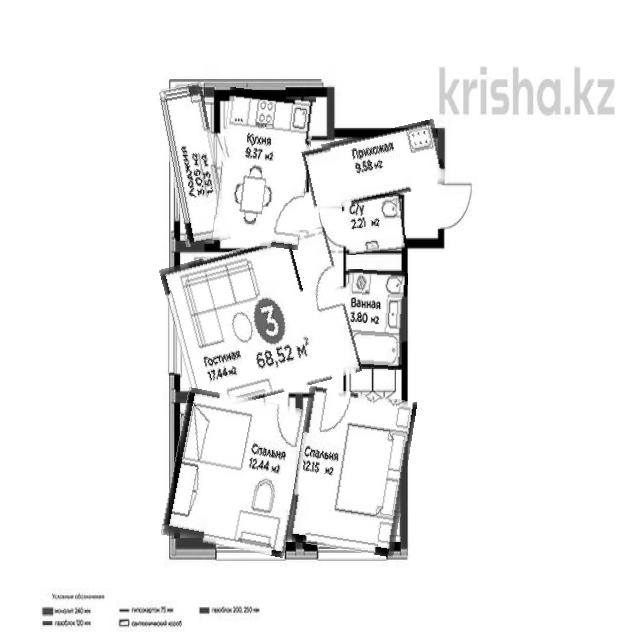balcony: (164, 84, 224, 246)
bathroom: (344, 270, 406, 370), (343, 194, 405, 254)
hallway: (304, 126, 445, 206)
kitchen: (215, 90, 312, 248)
living_room: (167, 236, 354, 406), (166, 392, 305, 553), (291, 389, 412, 554)
